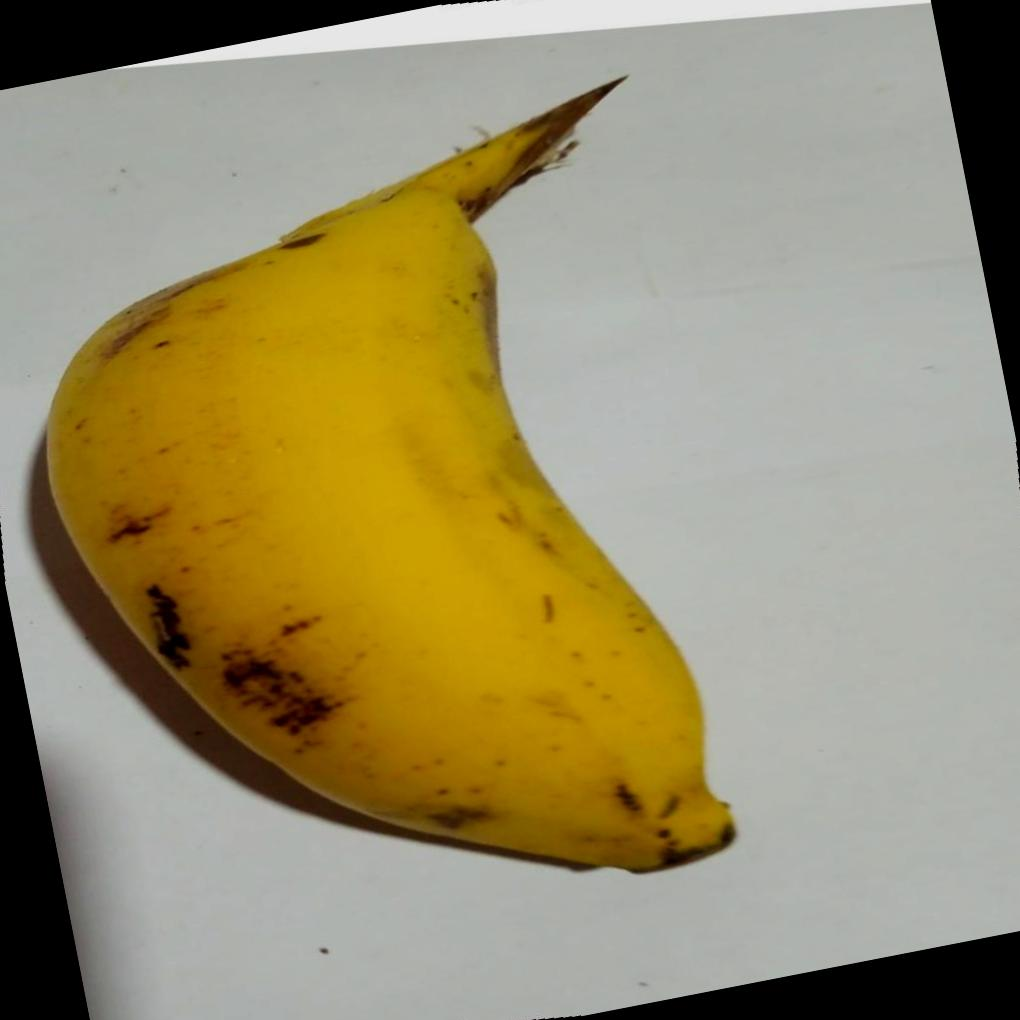Banana Ripe: (14, 94, 791, 1013)
